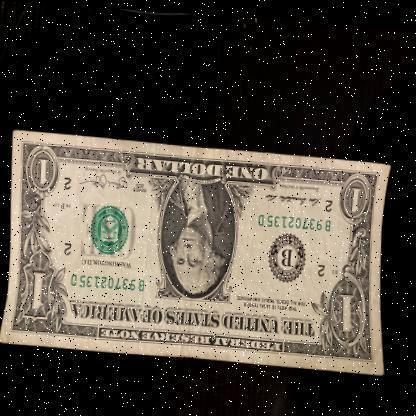one-front: (1, 127, 399, 369)
